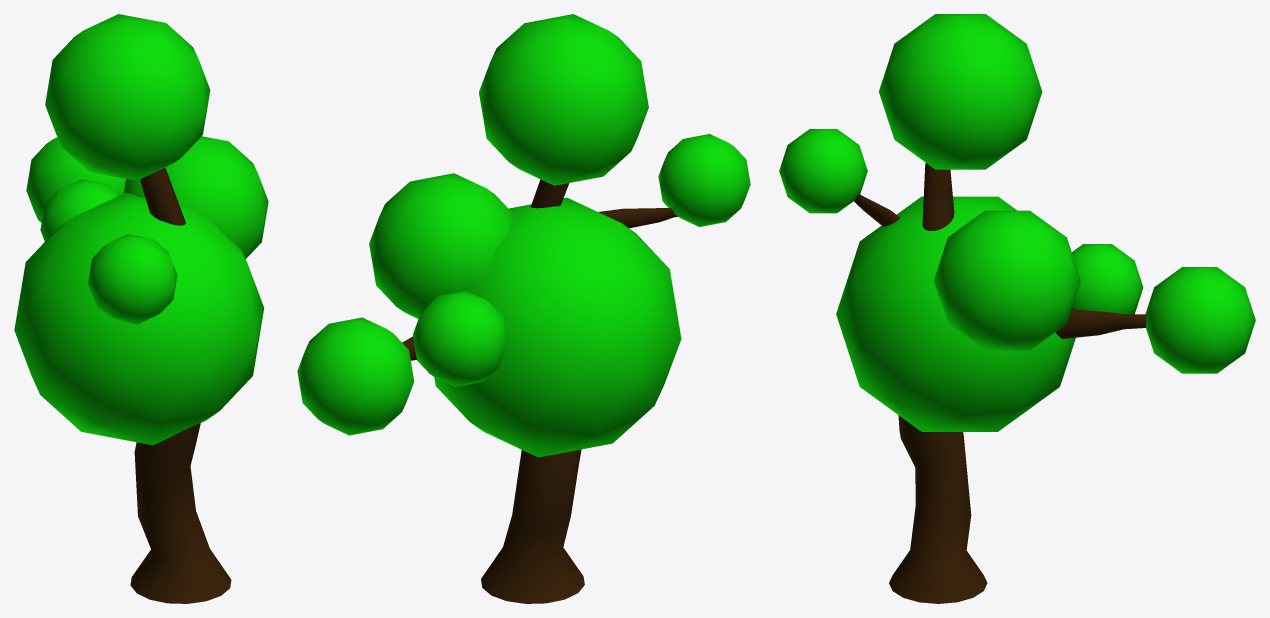
The model's file is blob-tree.fbx.
The picture shows the model from 3 angles, left to right: view 1: azimuth 30°, elevation 25°; view 2: azimuth 150°, elevation 25°; view 3: azimuth 270°, elevation 25°; orthographic projection. The views are drawn at different scales.
Visible parts, largest first — view 1: Cylinder; view 2: Cylinder; view 3: Cylinder.
Part boxes in pixels (x1,y1,x2,y2): Cylinder: [14, 14, 268, 603]; Cylinder: [297, 14, 750, 603]; Cylinder: [779, 14, 1255, 603].
Bounding box in the file's own units: 1016 × 2130 × 1686.
